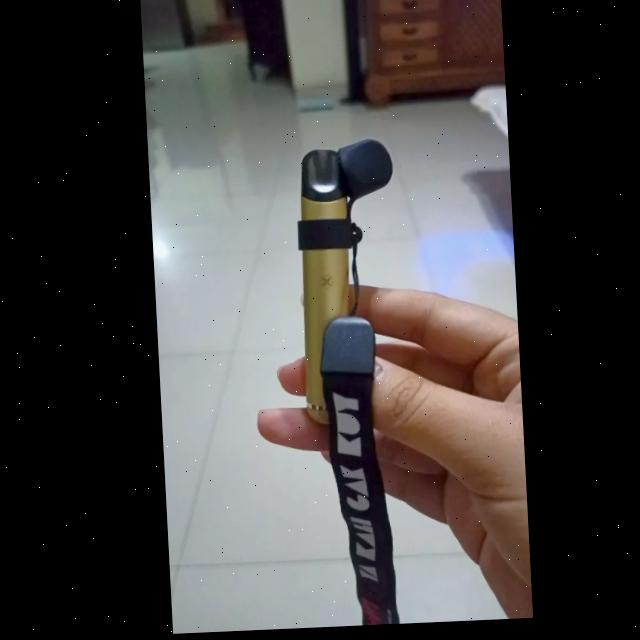vape: (291, 137, 403, 430)
